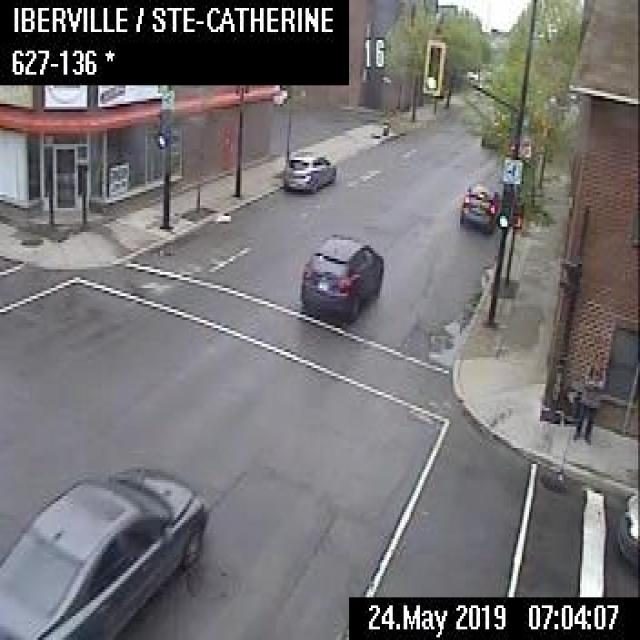pedestrian: (573, 352, 607, 445)
vehicle: (0, 462, 209, 638), (298, 232, 382, 320), (611, 483, 638, 573), (282, 148, 335, 192), (458, 181, 500, 233)
